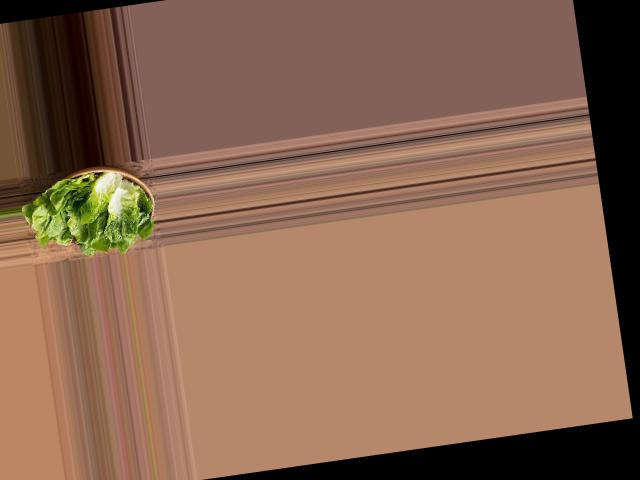lettuce: (19, 159, 165, 261)
